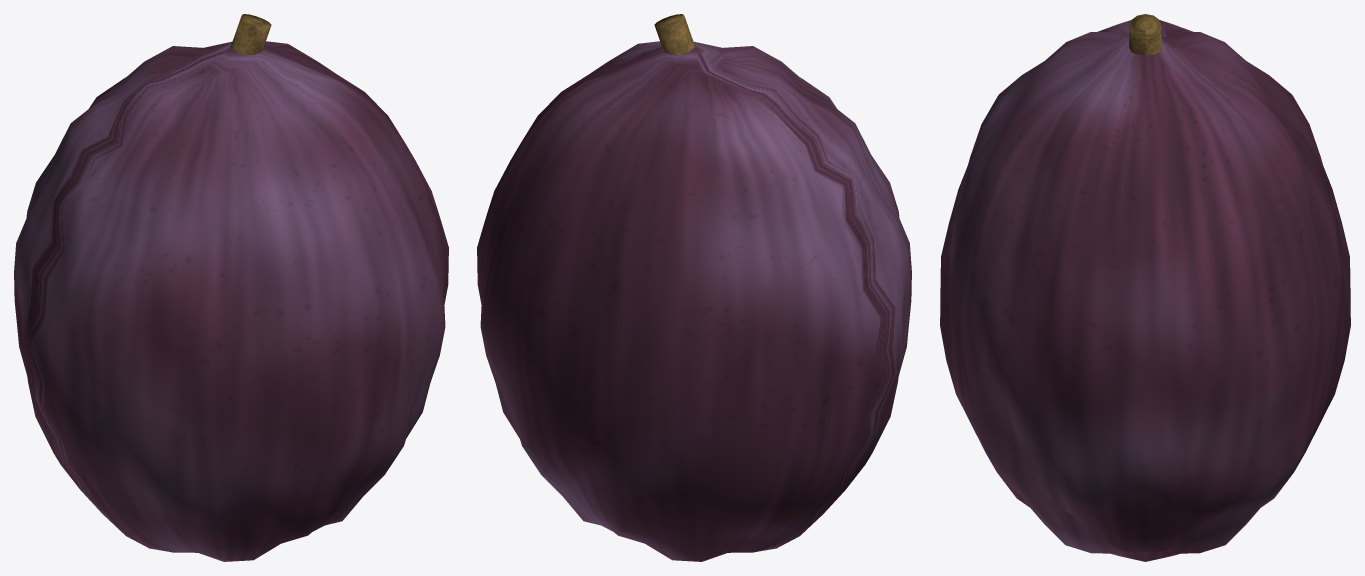
Rendered from plum.glb.
The picture shows the model from 3 angles, left to right: view 1: azimuth 30°, elevation 25°; view 2: azimuth 150°, elevation 25°; view 3: azimuth 270°, elevation 25°; orthographic projection. The views are drawn at different scales.
Visible parts, largest first — view 1: plum, dry; view 2: plum, dry; view 3: plum, dry.
Part boxes in pixels (x1=…): plum: x1=14, y1=41, x2=448, y2=561; dry: x1=230, y1=14, x2=271, y2=55; plum: x1=477, y1=41, x2=911, y2=561; dry: x1=654, y1=14, x2=695, y2=55; plum: x1=940, y1=20, x2=1350, y2=561; dry: x1=1129, y1=14, x2=1161, y2=55.
Bounding box in the file's own units: 0.0566 × 0.0733 × 0.0508.
Materials: 2 (2 with a texture image).
